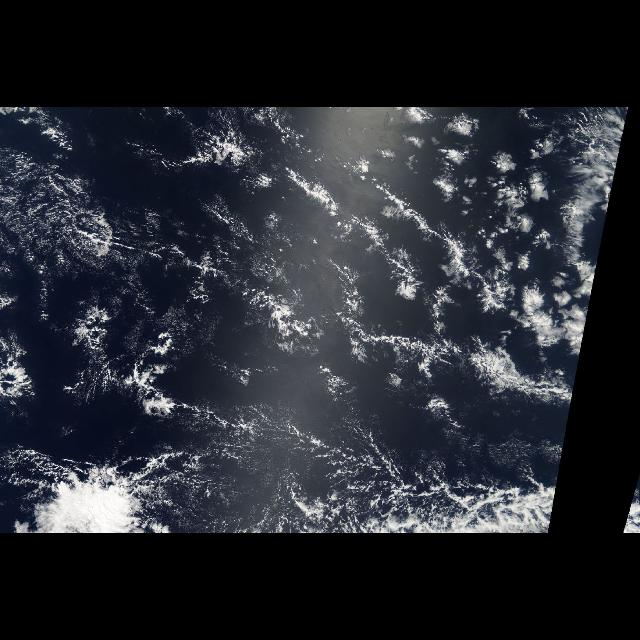Flower: (350, 115, 592, 351)
Gravel: (6, 120, 332, 378)
